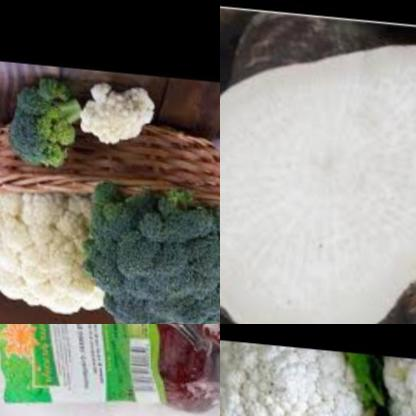beet: (112, 324, 220, 416)
broccoli: (88, 165, 220, 324), (2, 61, 86, 175)
cayliflower: (0, 170, 102, 320), (220, 337, 371, 416), (78, 66, 159, 146)
redka: (220, 13, 416, 324)
